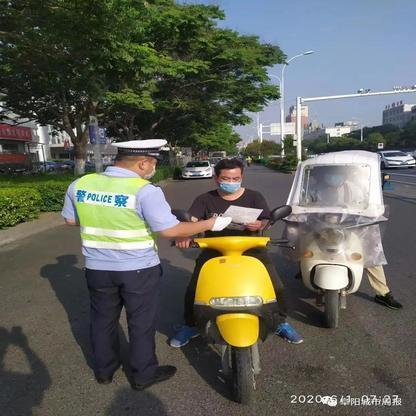target: (167, 158, 305, 404)
